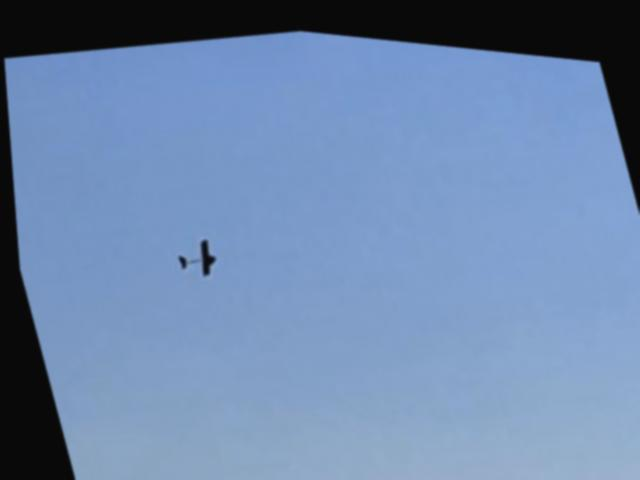uav: (166, 230, 222, 282)
